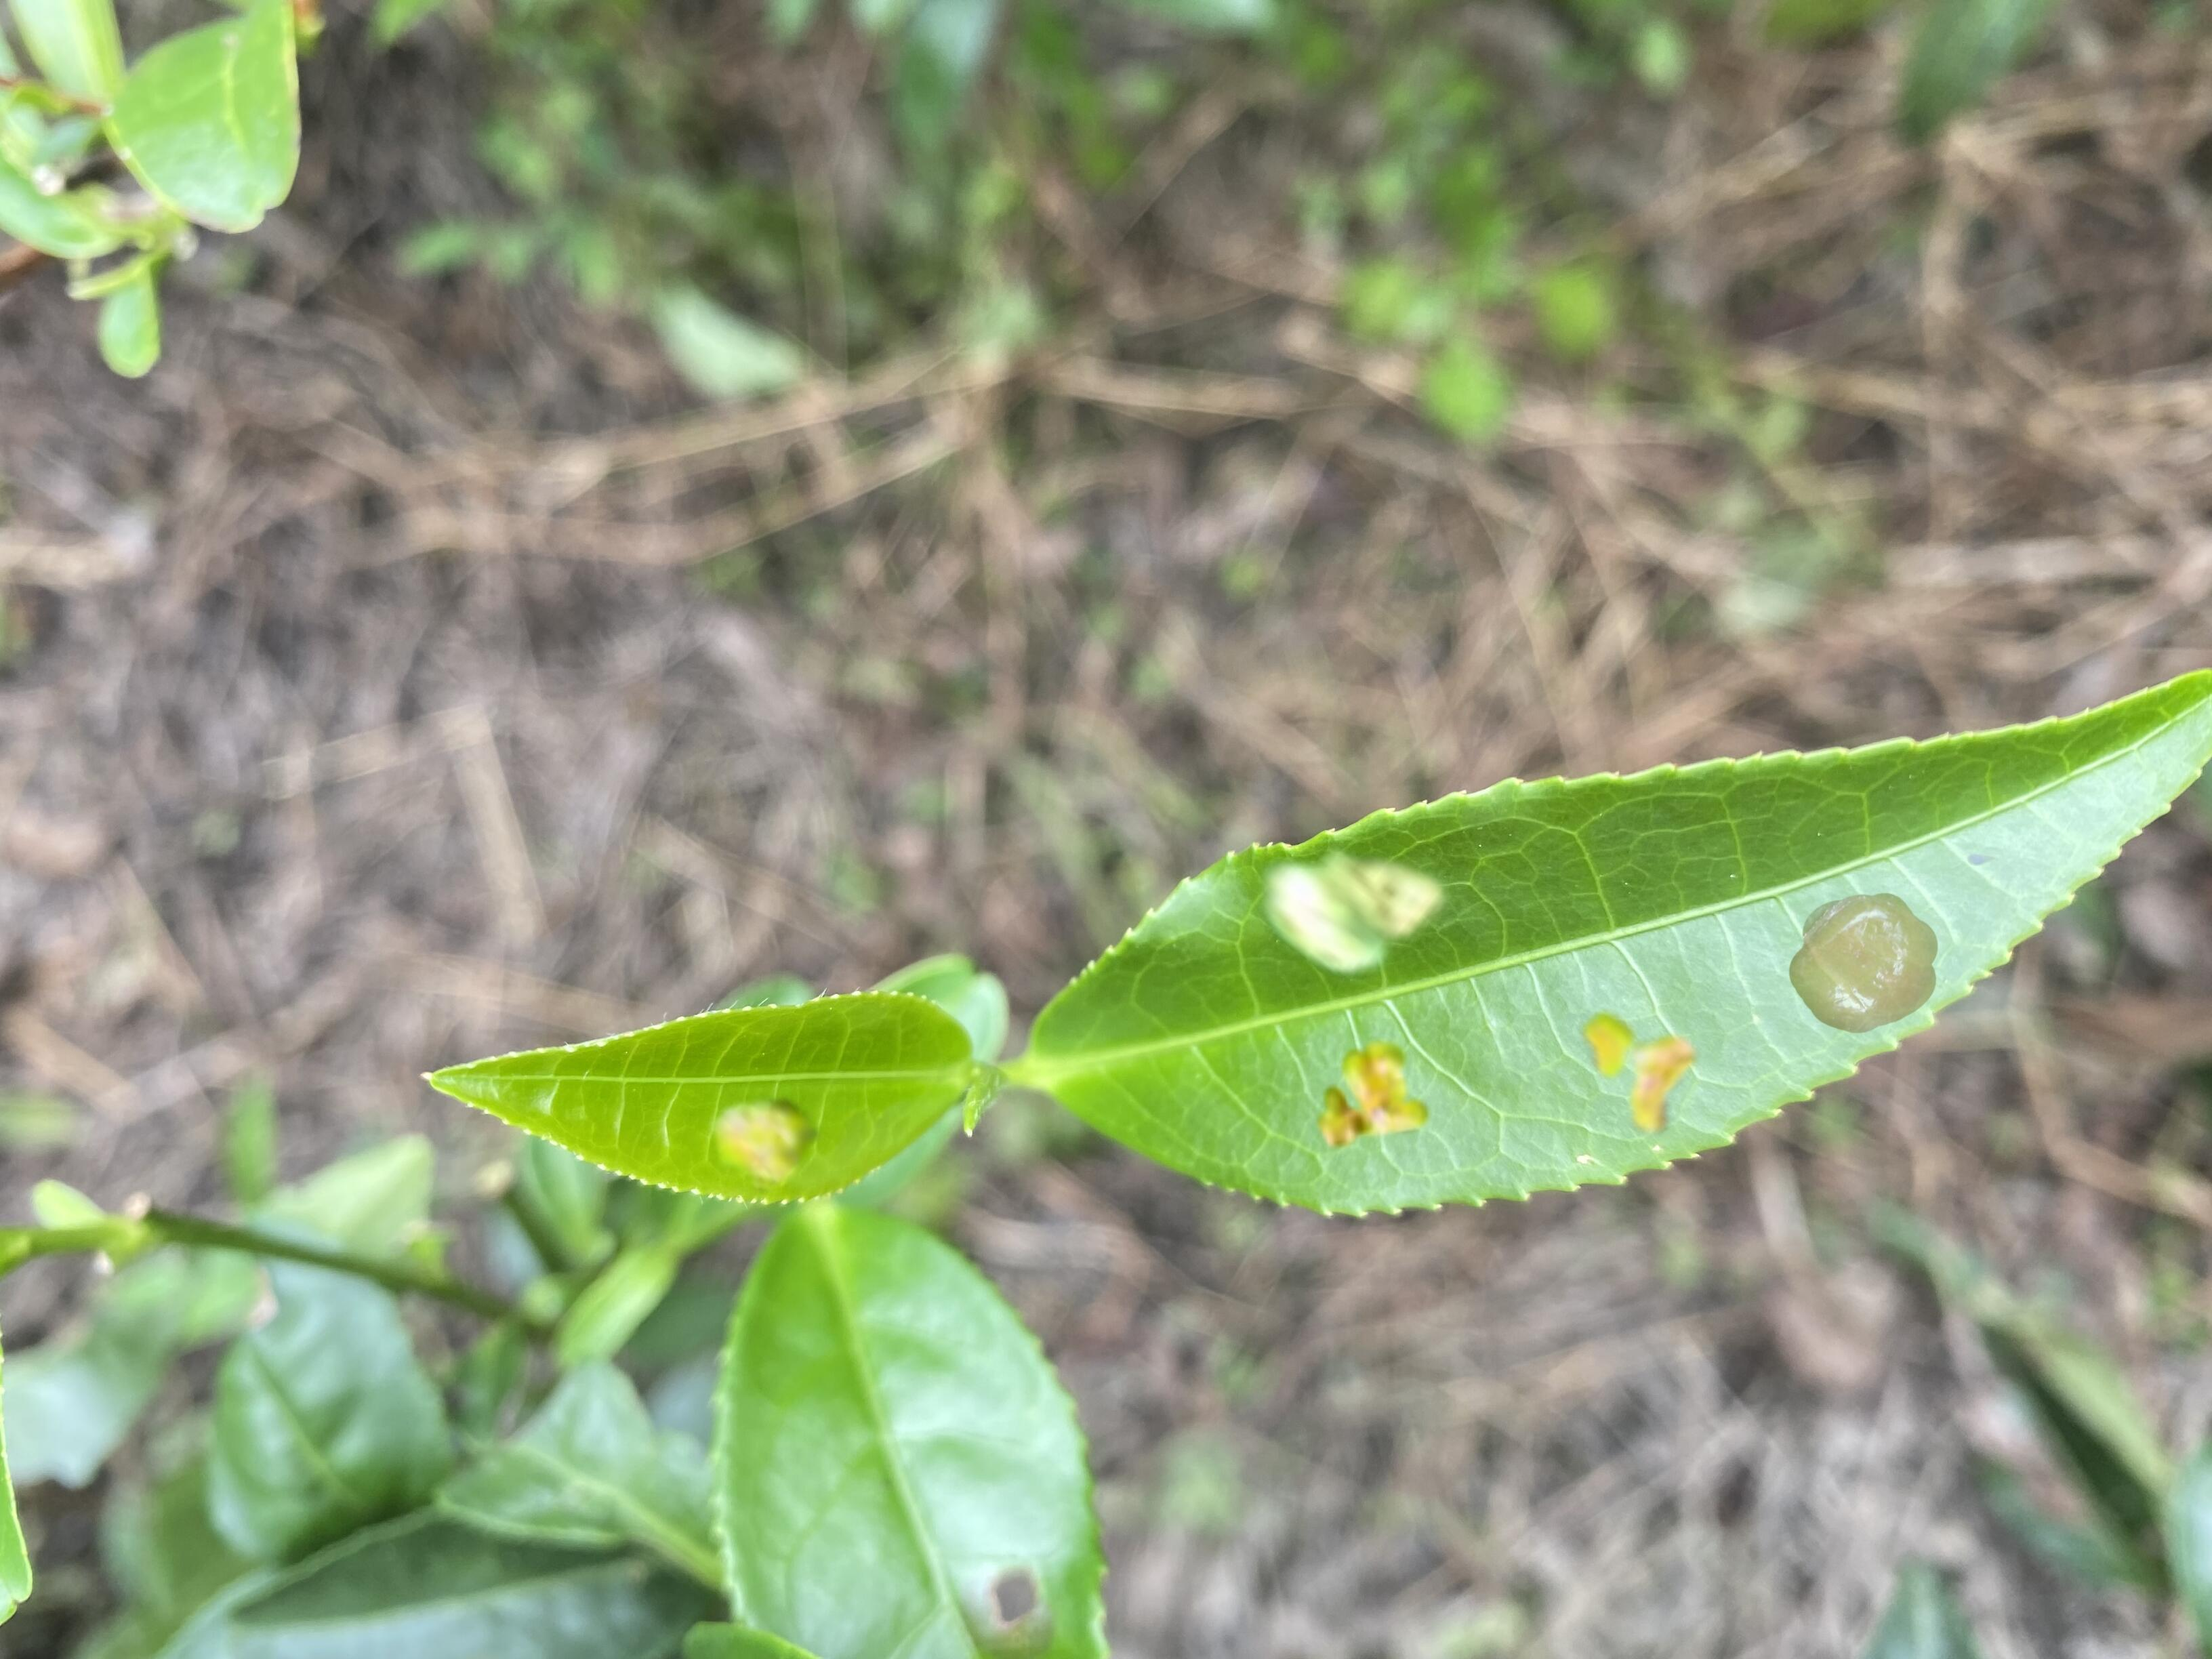chabing_high: (1031, 671, 2210, 1232)
chabing_low: (418, 992, 975, 1204)
chihuo_low: (714, 1206, 1116, 1656)
